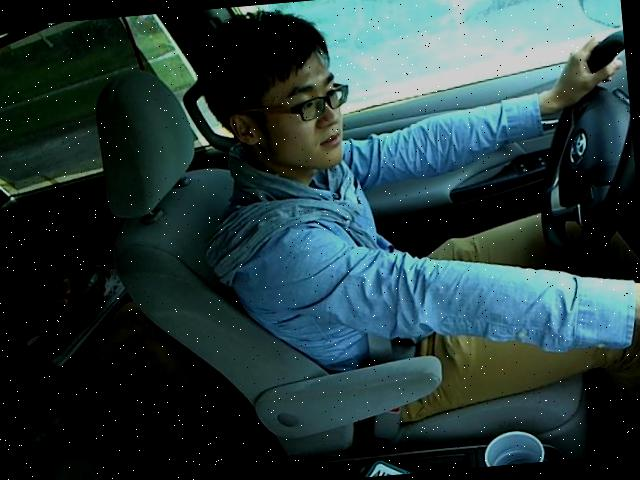c3 - Operating the Radio: (180, 0, 639, 394)
